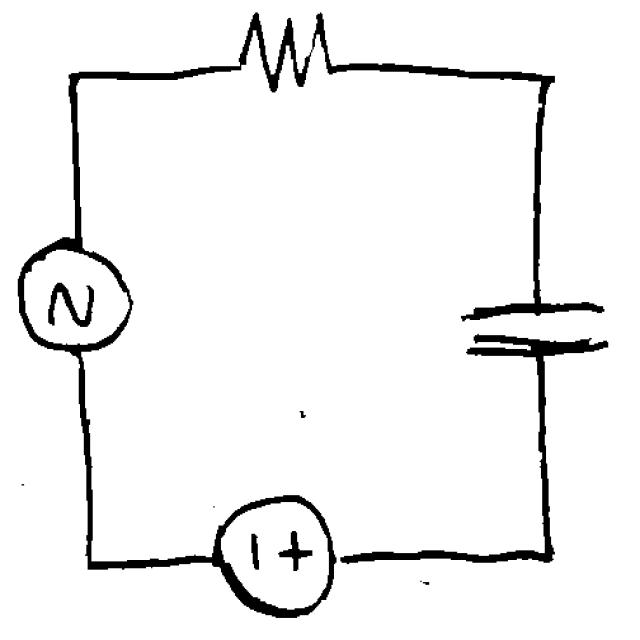ac: (10, 224, 146, 362)
capacitor: (446, 282, 618, 376)
dc: (203, 479, 346, 625)
resistor: (221, 2, 355, 100)
